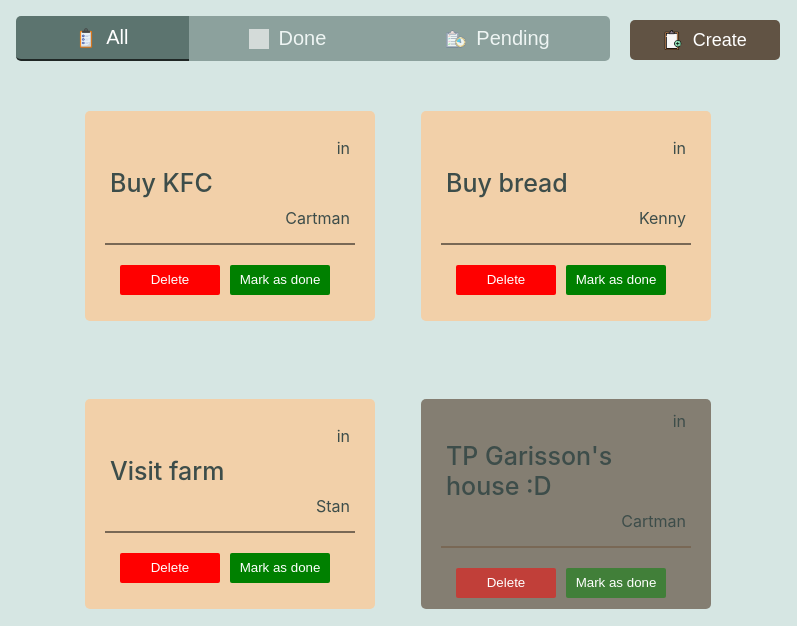
Test case: <Dashboard /> › clicking on Tab options, filters and renders the correct reminders
Expected: the number of elements with test id "reminder-card" is 4, [85,111,375,321]; [421,111,711,321]; [85,399,375,609]; [421,399,711,609]
Note: filter only Done reminders
Click the button "Done" at (287, 38), box [188,16,386,61]
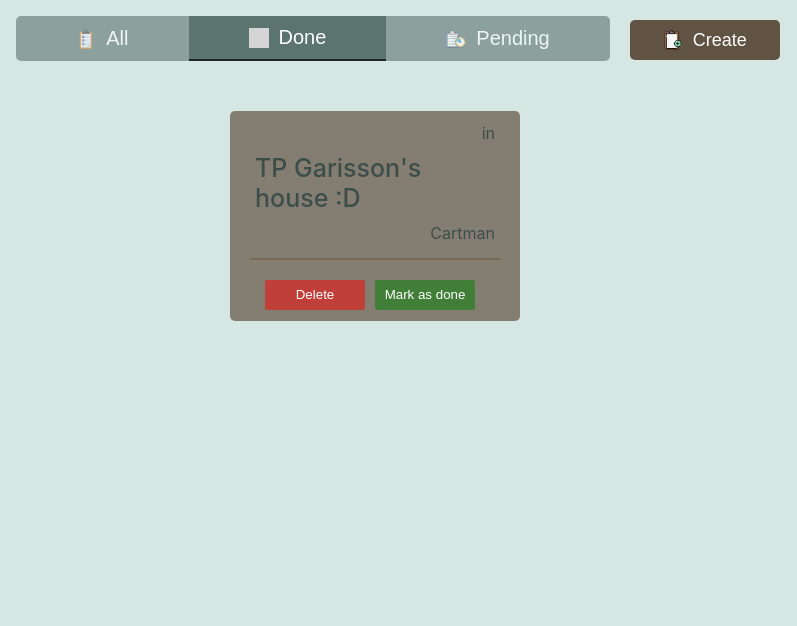
Expected: the number of elements with test id "reminder-card" is 1, [230,111,520,321]
Now the text "Visit farm" is gone
Note: filter only Pending reminders
Click the button "Pending" at (498, 38), box [386,16,610,61]
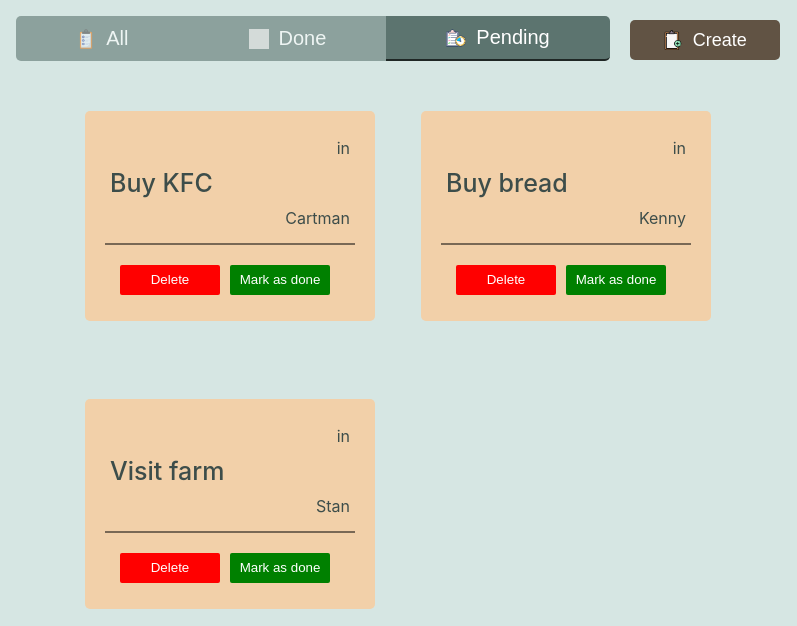
Now the number of elements with test id "reminder-card" is 3, box [85,111,375,321]; [421,111,711,321]; [85,399,375,609]
Now the text "TP Garisson's house :D" is gone
Now the text "Visit farm" is shown, box [105,450,229,490]
